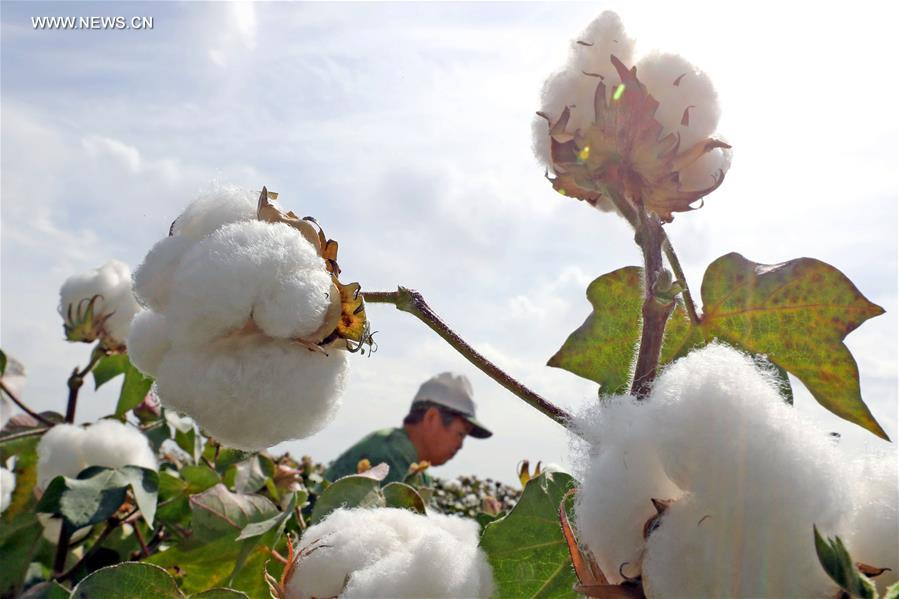cotton: (39, 166, 355, 444), (543, 345, 873, 596), (518, 1, 769, 245), (273, 503, 518, 596), (26, 413, 188, 546)
